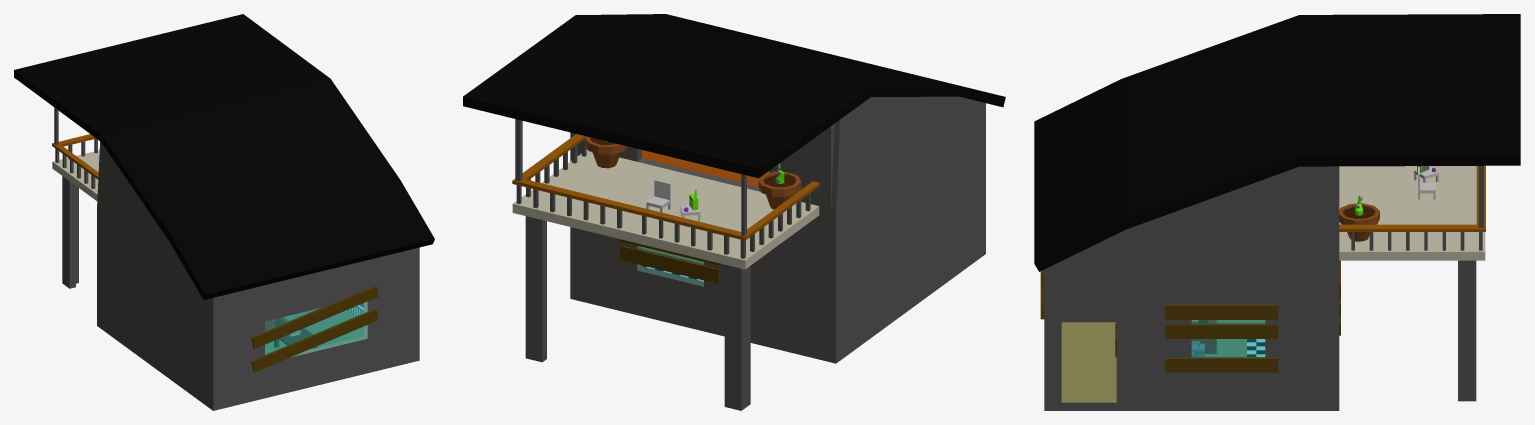
File: new aaasafehfbx.fbx
3 renders of one model, left to right at view 1: azimuth 30°, elevation 25°; view 2: azimuth 150°, elevation 25°; view 3: azimuth 270°, elevation 25°, orthographic. The views are drawn at different scales.
Parts seen in each view (by area): view 1: Cube, Cube.016; view 2: Cube.016, Cube, Cylinder.002, Cylinder.001, Cube.008; view 3: Cube.016, Cube, Cylinder.001.
Part boxes in pixels (left/top/right/bottom): Cube: left=14, top=14, right=434, bottom=299; Cube.016: left=52, top=107, right=419, bottom=410; Cube.016: left=512, top=96, right=985, bottom=410; Cube: left=463, top=14, right=1005, bottom=178; Cylinder.002: left=758, top=163, right=801, bottom=209; Cylinder.001: left=585, top=136, right=627, bottom=168; Cube.008: left=646, top=179, right=670, bottom=212; Cube.016: left=1040, top=165, right=1485, bottom=410; Cube: left=1034, top=14, right=1520, bottom=271; Cylinder.001: left=1339, top=195, right=1379, bottom=241.
Bounding box in the file's own units: 683 × 593 × 988.
